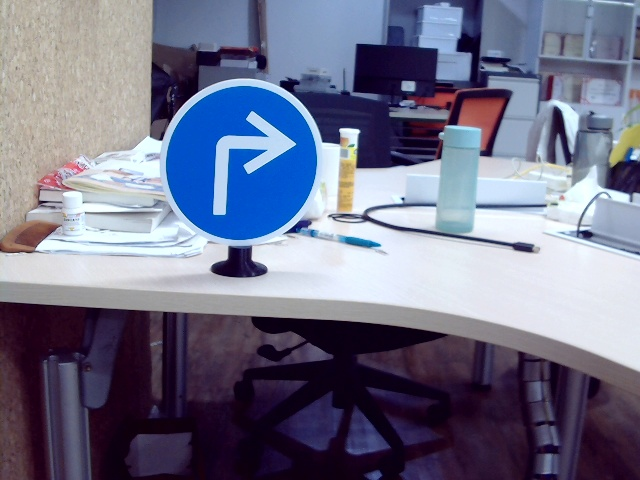turn_right: (205, 108, 289, 215)
